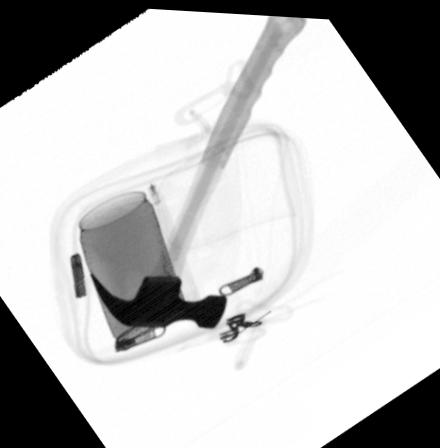Hammer: (89, 12, 309, 327)
